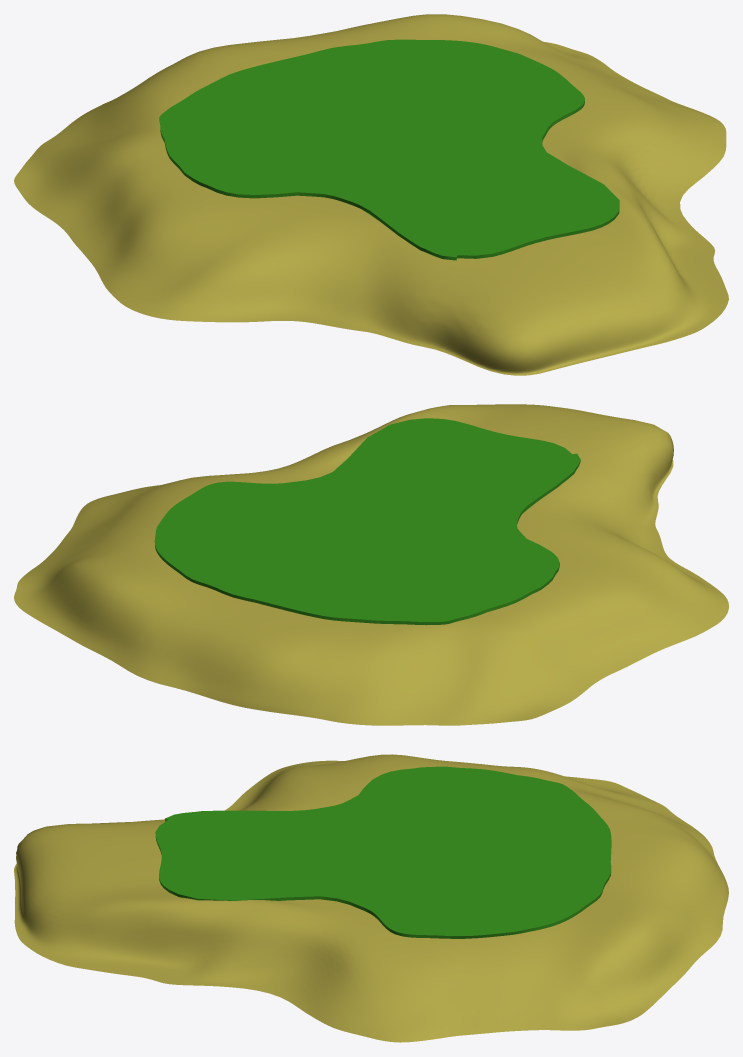
The model's file is ilha cavaira.fbx.
The picture shows the model from 3 angles, top to bottom: view 1: azimuth 30°, elevation 25°; view 2: azimuth 150°, elevation 25°; view 3: azimuth 270°, elevation 25°; orthographic projection. The views are drawn at different scales.
Visible parts, largest first — view 1: areia.003, caveira; view 2: areia.003, caveira; view 3: areia.003, caveira.
Part boxes in pixels (left/top/right/bottom): areia.003: left=14, top=14, right=728, bottom=375; caveira: left=159, top=39, right=619, bottom=260; areia.003: left=14, top=404, right=728, bottom=725; caveira: left=154, top=418, right=580, bottom=625; areia.003: left=14, top=754, right=728, bottom=1042; caveira: left=155, top=766, right=611, bottom=938.
Size of the model in its own units: 2368 by 198 by 2540.
